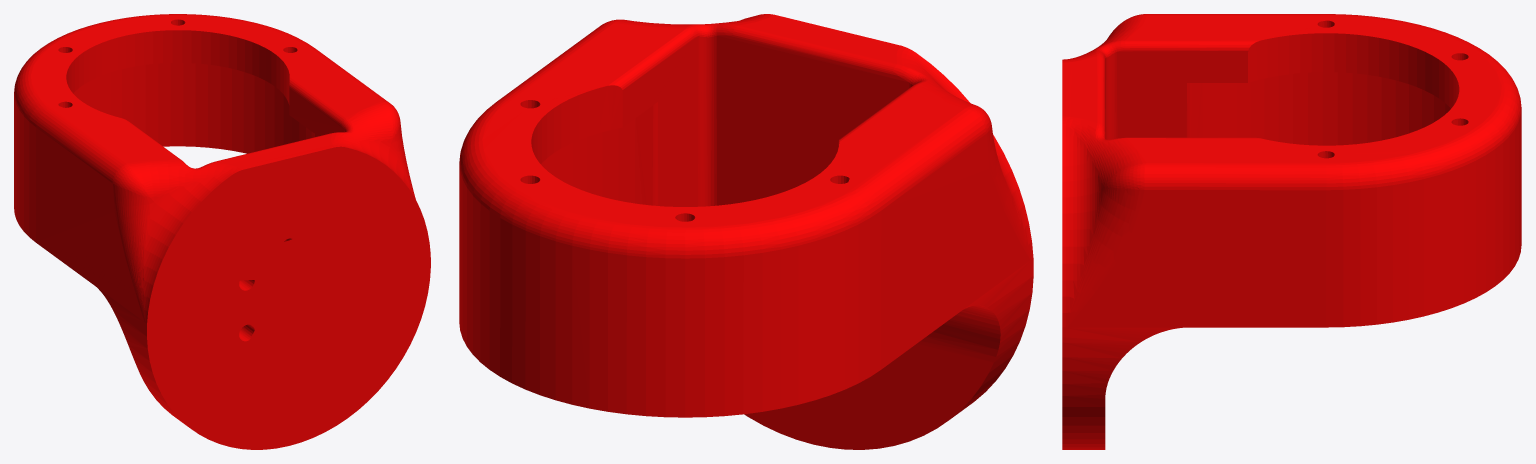
The model's file is right_arm_1_shoulder_nontorso_1.glb.
3 views of the same model, side by side, from view 1: azimuth 30°, elevation 25°; view 2: azimuth 150°, elevation 25°; view 3: azimuth 270°, elevation 25° (orthographic). The views are drawn at different scales.
Visible parts, largest first — view 1: right_arm_1_shoulder_nontorso_1.obj; view 2: right_arm_1_shoulder_nontorso_1.obj; view 3: right_arm_1_shoulder_nontorso_1.obj.
Part boxes in pixels (box(x1,y1,x2,y2)): right_arm_1_shoulder_nontorso_1.obj: box(14, 14, 430, 449); right_arm_1_shoulder_nontorso_1.obj: box(459, 14, 1033, 449); right_arm_1_shoulder_nontorso_1.obj: box(1062, 14, 1521, 449).
Size of the model in its own units: 0.091 by 0.088 by 0.107.
